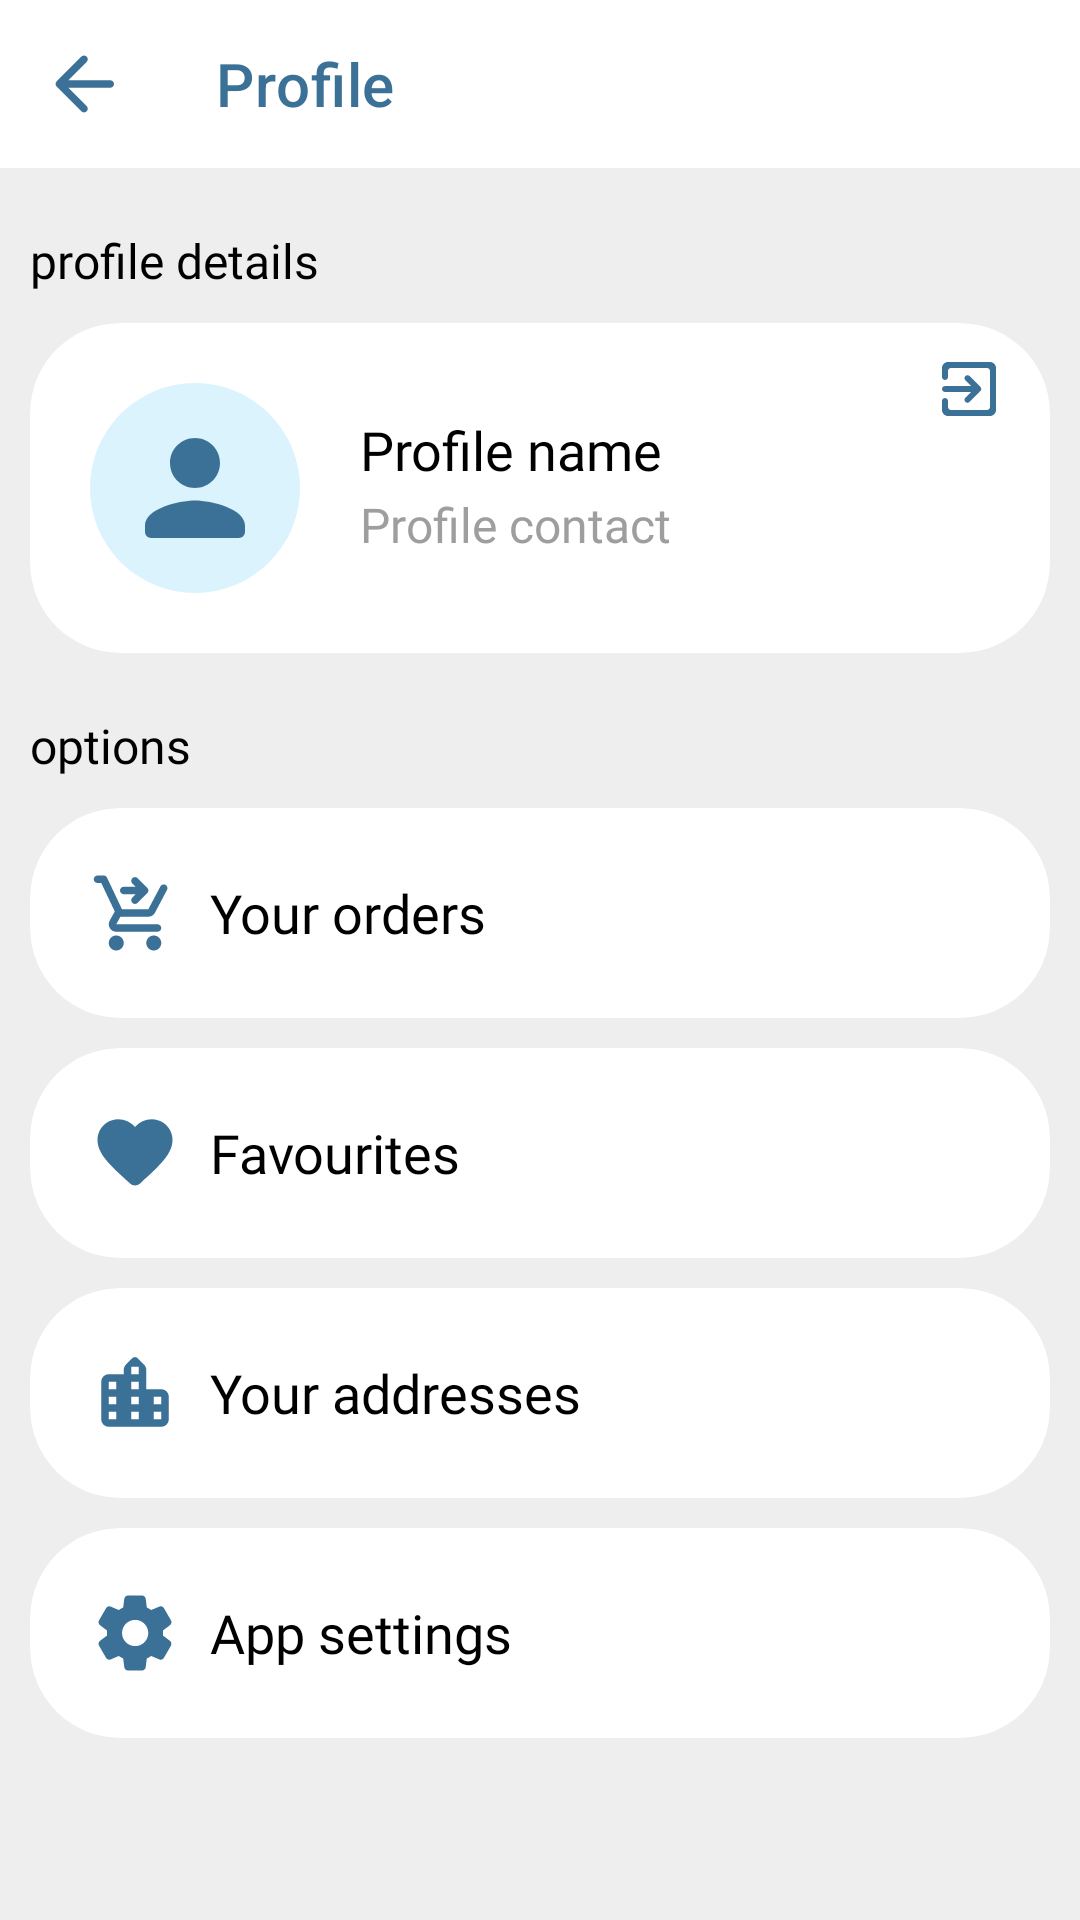

Screen size 1080px x 1920px. Icon name, then its box in pixels as (x1, y1, x2, y2):
exit to app: (942, 362, 996, 416)
profile layer list: (90, 383, 300, 593)
